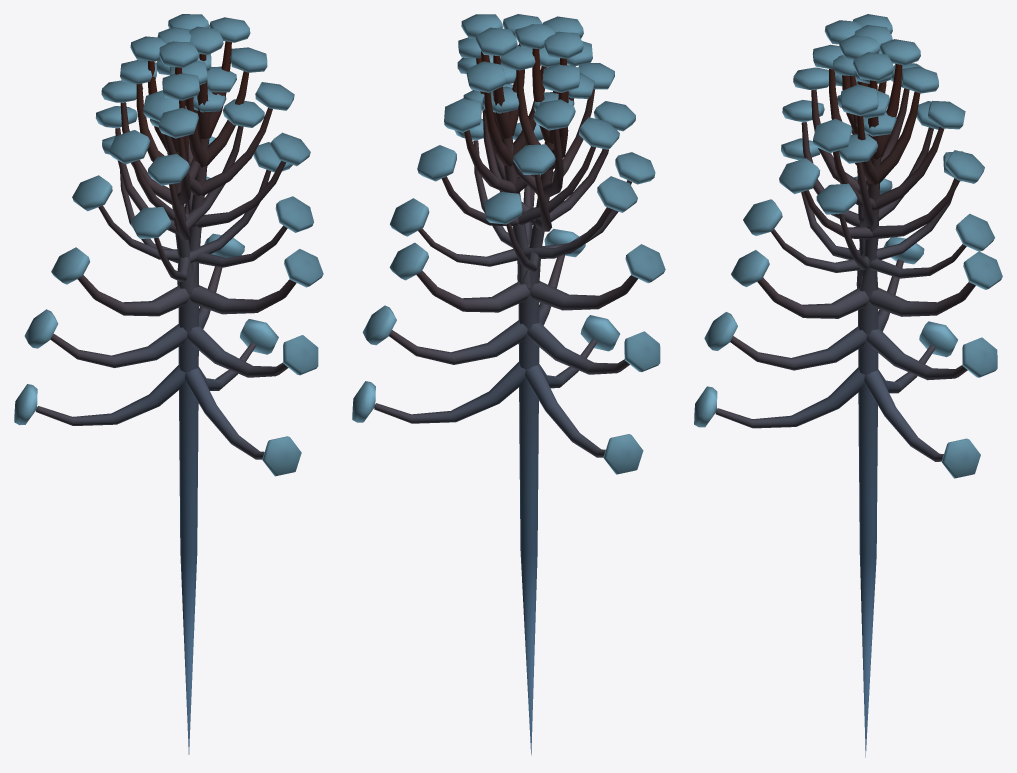
File: plants-flowers-blue-flower-spike_v5.fbx
3 renders of one model, left to right at view 1: azimuth 30°, elevation 25°; view 2: azimuth 150°, elevation 25°; view 3: azimuth 270°, elevation 25°, orthographic.
Parts seen in each view (by area): view 1: Blue Flower Spike_v5; view 2: Blue Flower Spike_v5; view 3: Blue Flower Spike_v5.
Part boxes in pixels (x1,y1,x2,y2): Blue Flower Spike_v5: (14, 14, 323, 754); Blue Flower Spike_v5: (352, 14, 665, 755); Blue Flower Spike_v5: (694, 14, 1002, 757).
Bounding box in the file's own units: 0.2367 × 0.6 × 0.2311.
